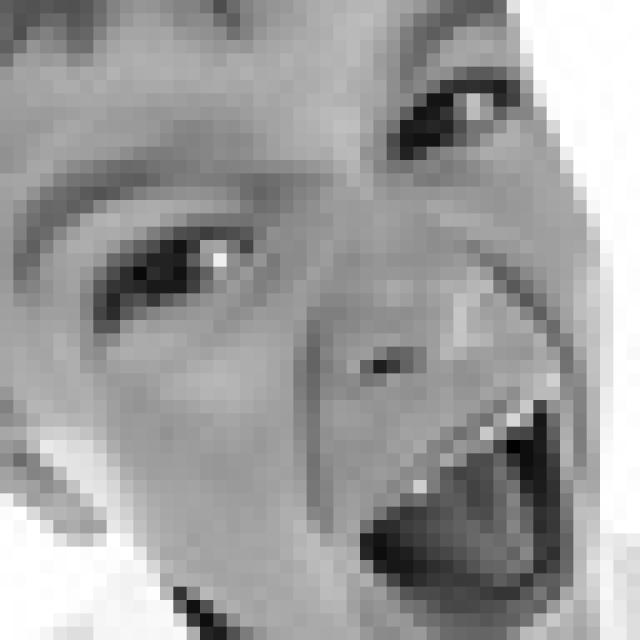angry: (75, 10, 588, 640)
